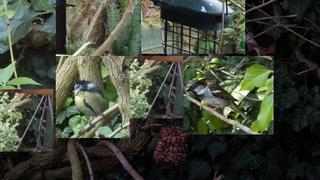blue tit: (72, 80, 108, 128)
sparrow: (185, 80, 250, 121)
